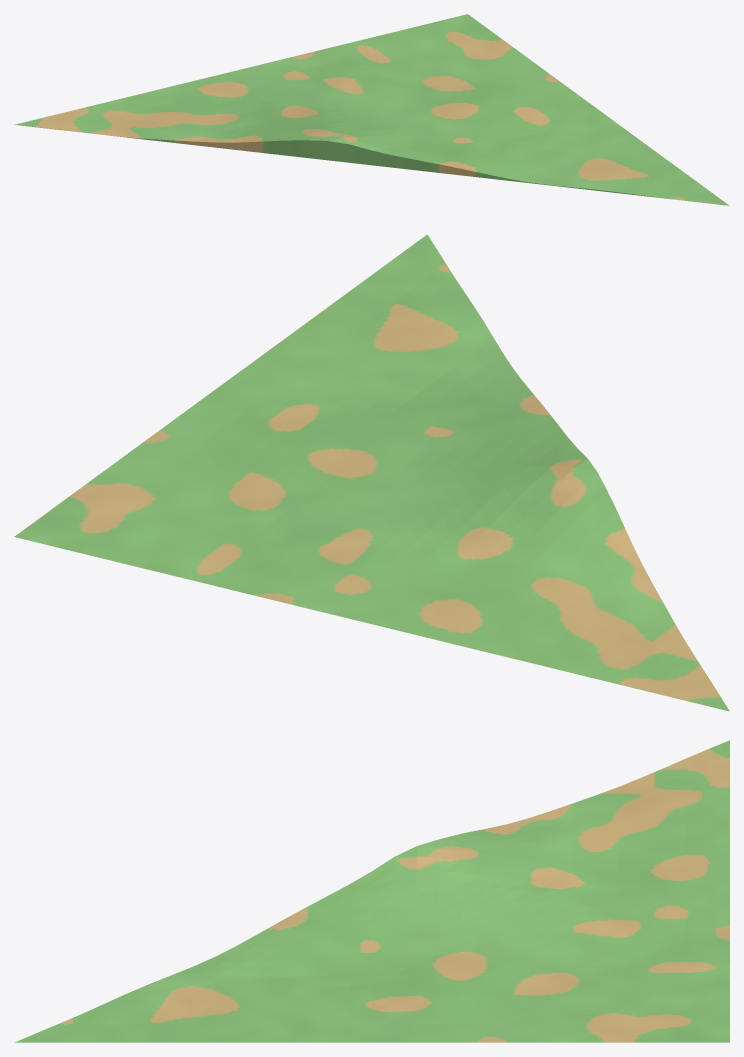
File: Grass_Flat_03_SE.obj
3 renders of one model, top to bottom at view 1: azimuth 30°, elevation 25°; view 2: azimuth 150°, elevation 25°; view 3: azimuth 270°, elevation 25°, orthographic. The views are drawn at different scales.
Bounding box in the file's own units: 10 × 0.4074 × 10.
Materials: 1 (1 with a texture image).
